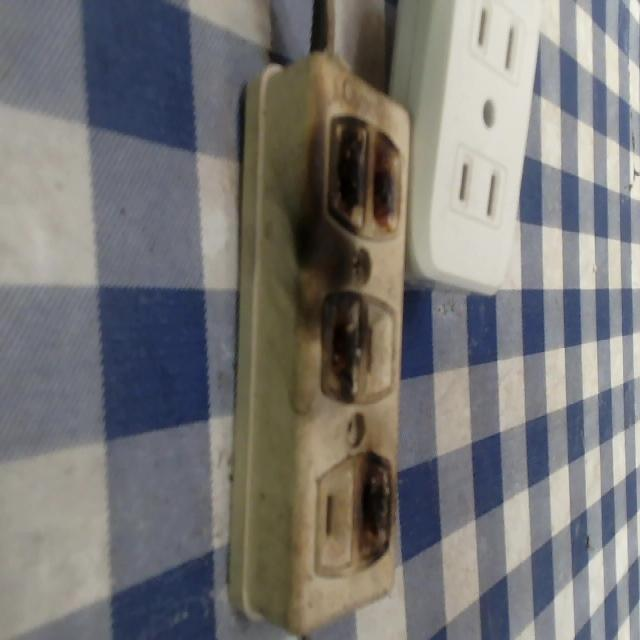-: (314, 102, 404, 234), (316, 284, 368, 404), (352, 443, 404, 561)
